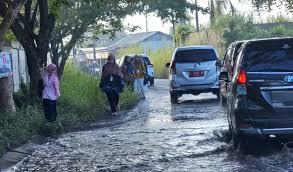Pothole: (165, 128, 249, 172), (135, 89, 236, 125)
